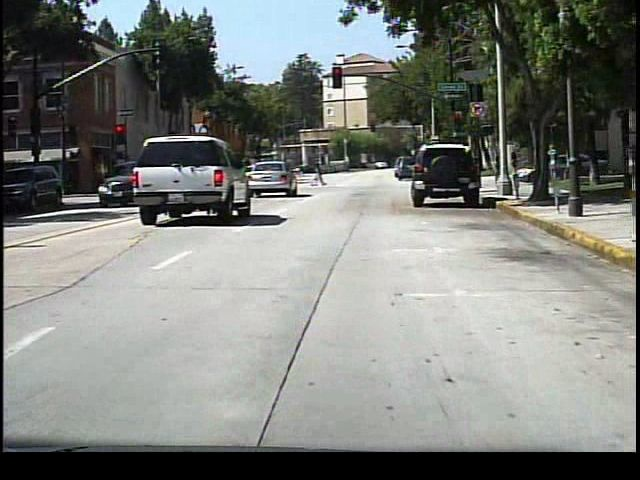person: (543, 140, 563, 185), (310, 156, 329, 189), (460, 152, 477, 184)
